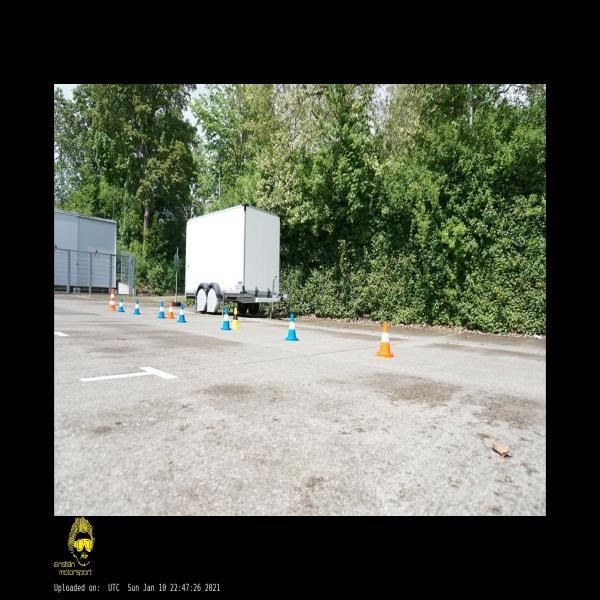blue_cone: (284, 313, 298, 341), (221, 307, 231, 331), (177, 303, 186, 323), (158, 301, 165, 319), (133, 300, 141, 314), (118, 298, 124, 312)
large_orange_cone: (108, 288, 116, 310)
orange_cone: (375, 322, 395, 358), (166, 301, 175, 319)
yellow_cone: (230, 307, 240, 329)
